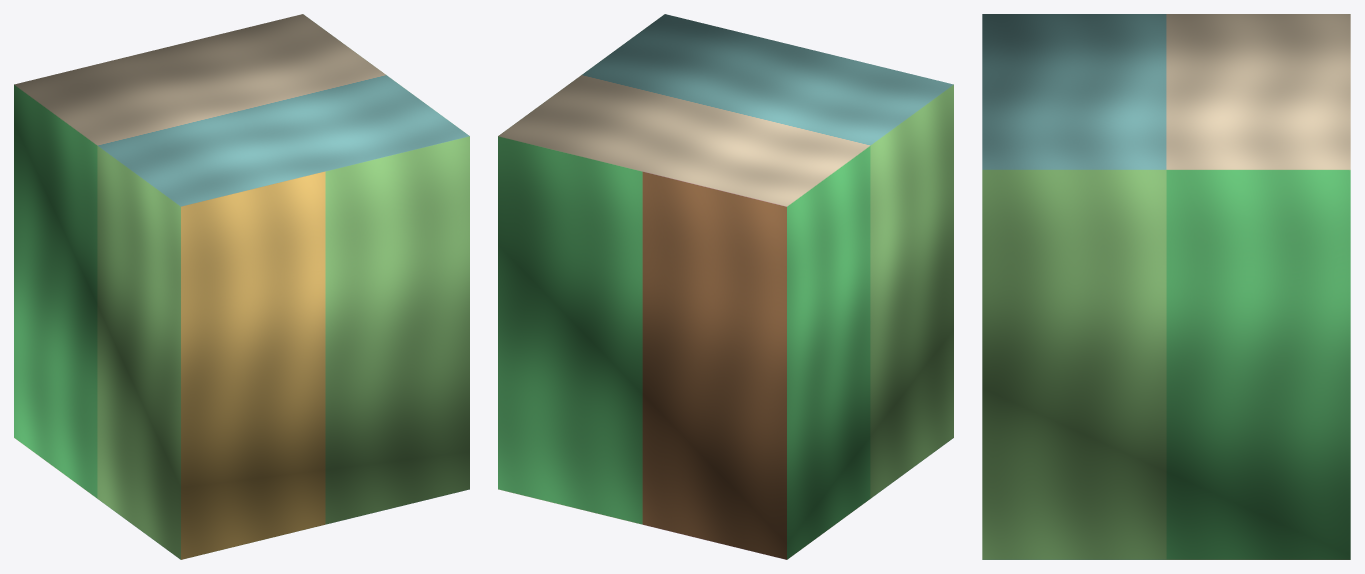
The model's file is gecko_house.glb.
3 renders of one model, left to right at view 1: azimuth 30°, elevation 25°; view 2: azimuth 150°, elevation 25°; view 3: azimuth 270°, elevation 25°, orthographic. The views are drawn at different scales.
Parts seen in each view (by area): view 1: col; view 2: col; view 3: col.
Boxes of the visible parts, x1,y1,x2,y2 form: col: (14, 14, 469, 559); col: (498, 14, 953, 559); col: (982, 14, 1350, 559).
Size of what is drawn, in the model's own units: 4.19 by 4.9 by 4.19.
Materials: 1 (1 with a texture image).
